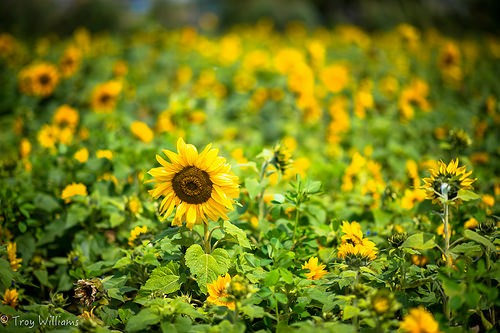flower: (145, 137, 242, 231)
